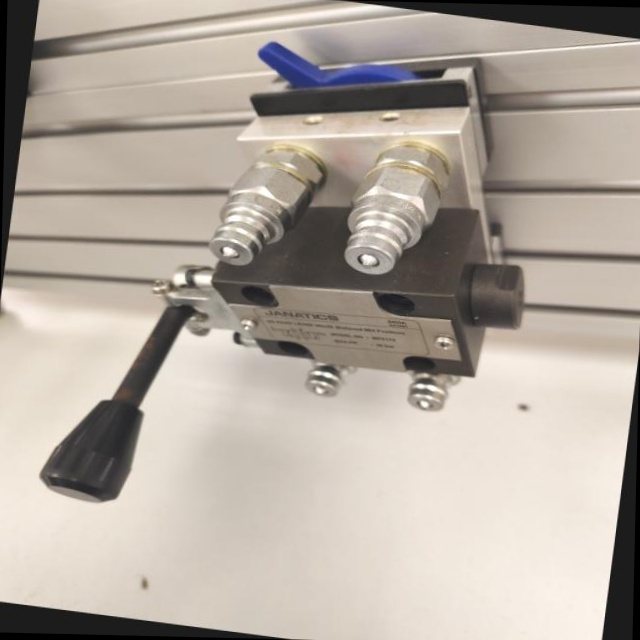4by3 hand lever valve: (12, 0, 570, 568)
